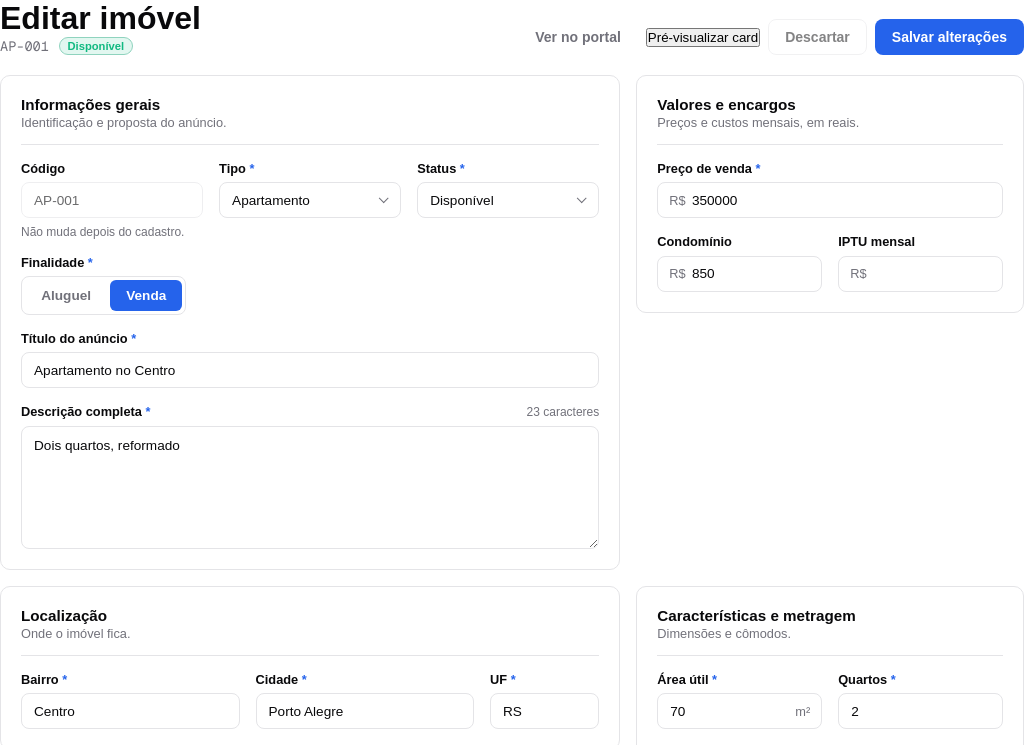
it: EdicaoDeImovel (TEC-400) › alterar so o preco nao reindexa (D3, cenario 1 do Gherkin da TEC-333) › manda so o preco e mostra "nao reindexa"
Replace the text in the field labelled "Preço de venda" with "400000": (830, 200) [657,182,1003,218]
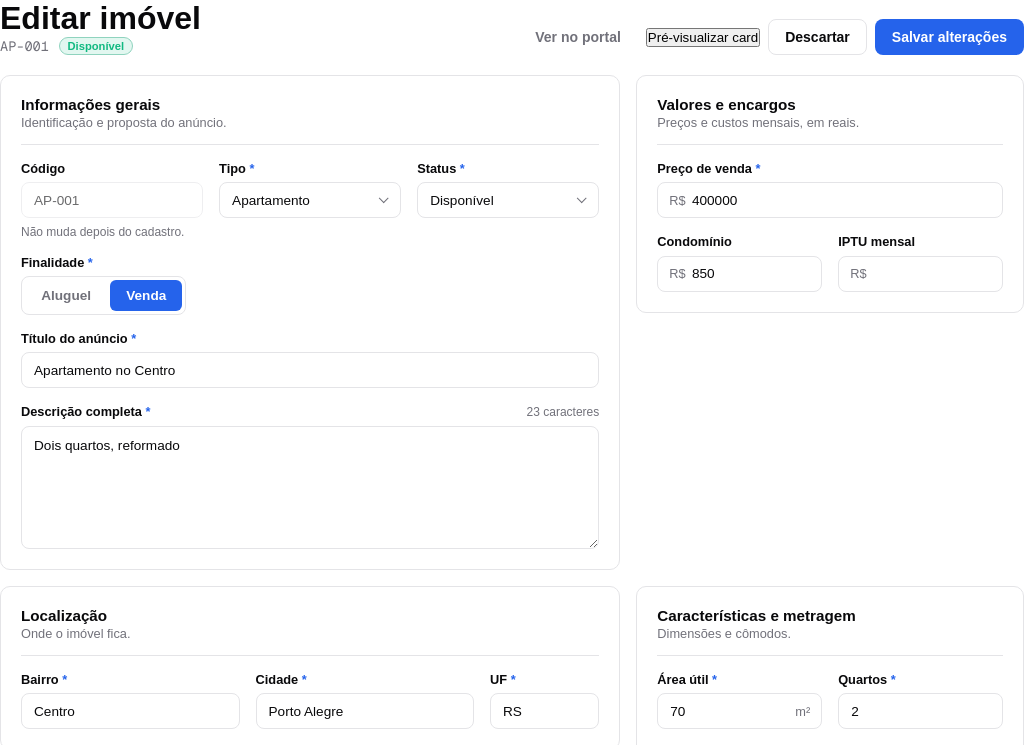
Click the button "Salvar alterações": (949, 37) [875,19,1023,55]
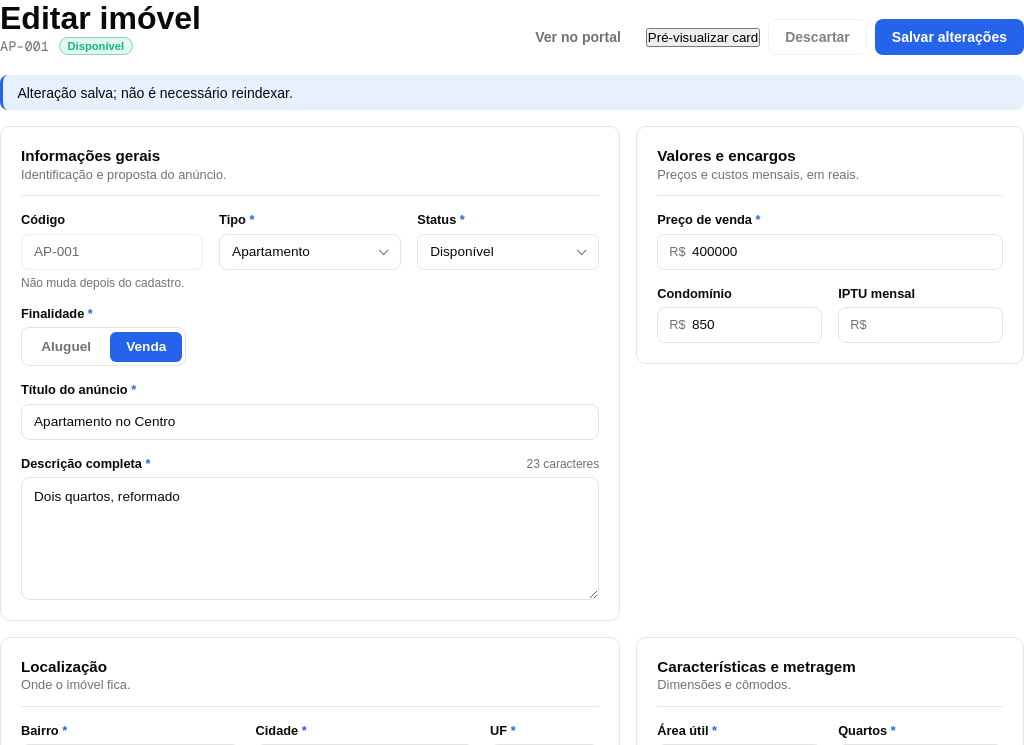
Expected: the message shows "não é necessário reindexar", [17,85,293,101]
